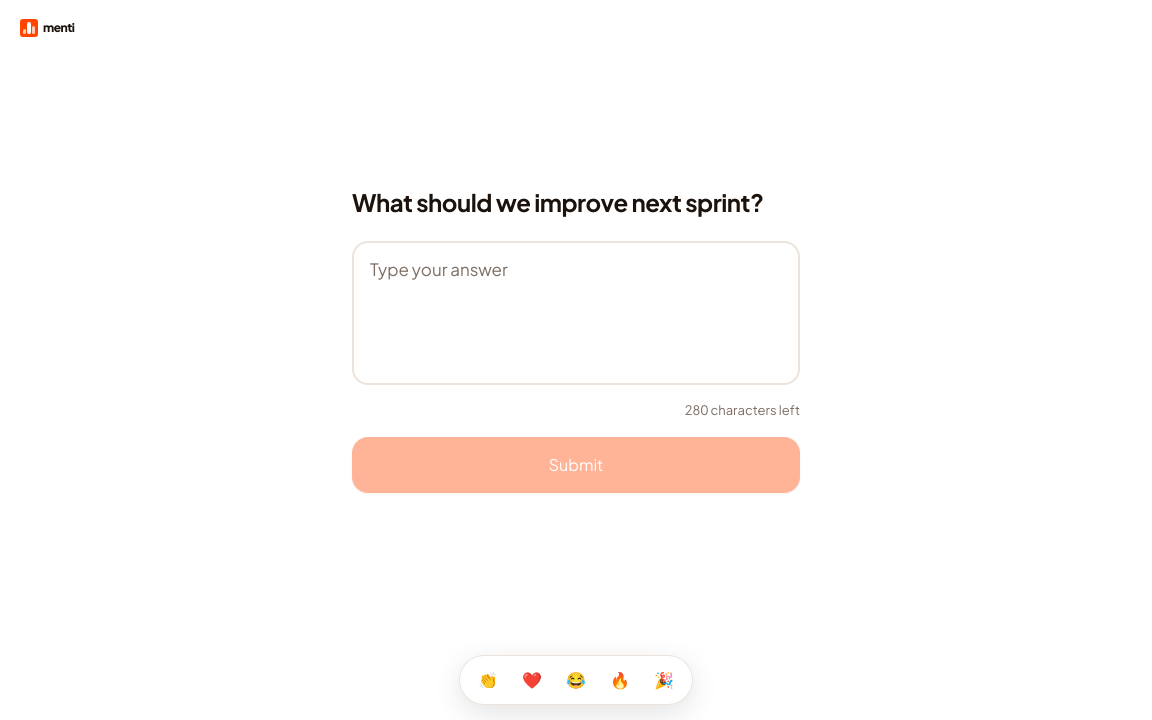
Test: VotePage › submits an open-ended response and shows the confirmation state
Expected: the heading "What should we improve next sprint?" is shown, [352,187,800,217]
Type "Clearer sprint goals" into the text box named "your response" at (576, 313), box [352,241,800,385]
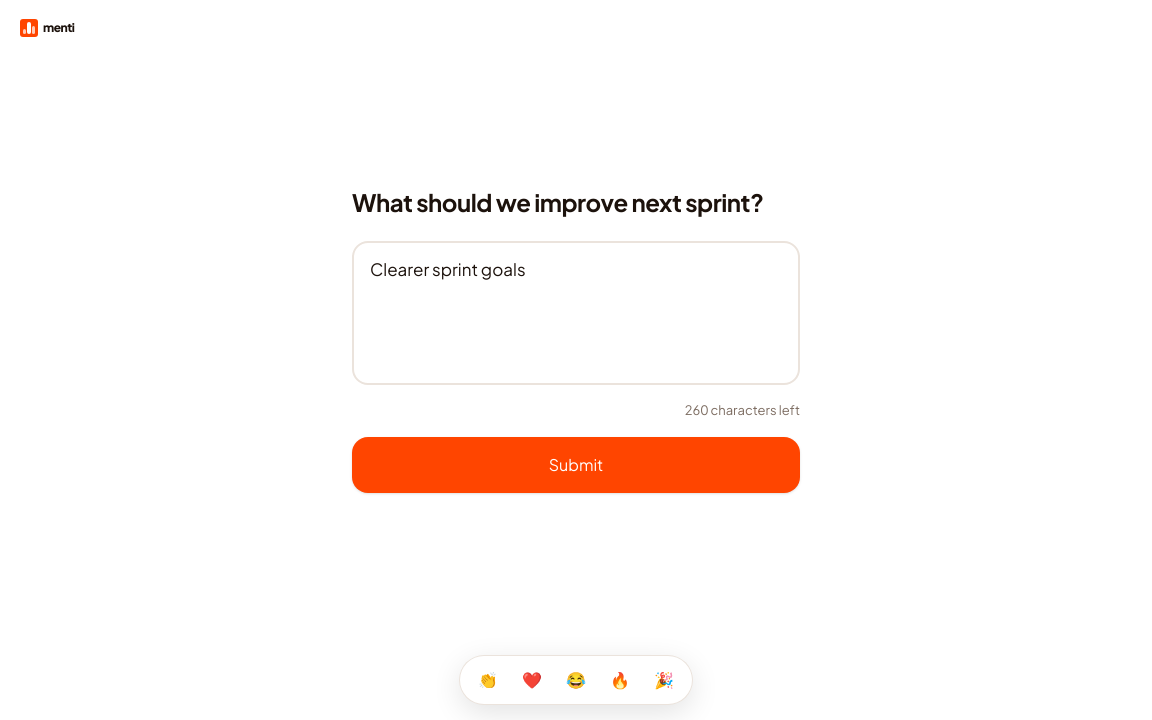
Click the button "Submit" at (576, 465), box [352,437,800,493]
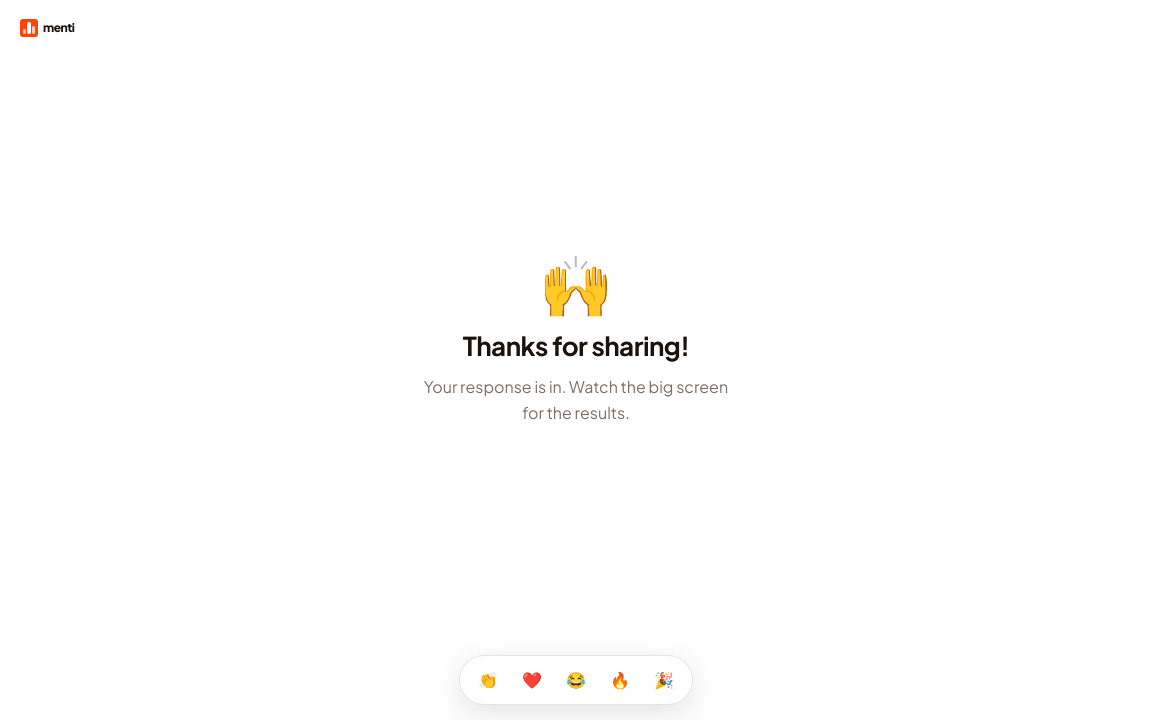
Expected: the heading "Thanks for sharing!" is shown, [463,329,689,362]
